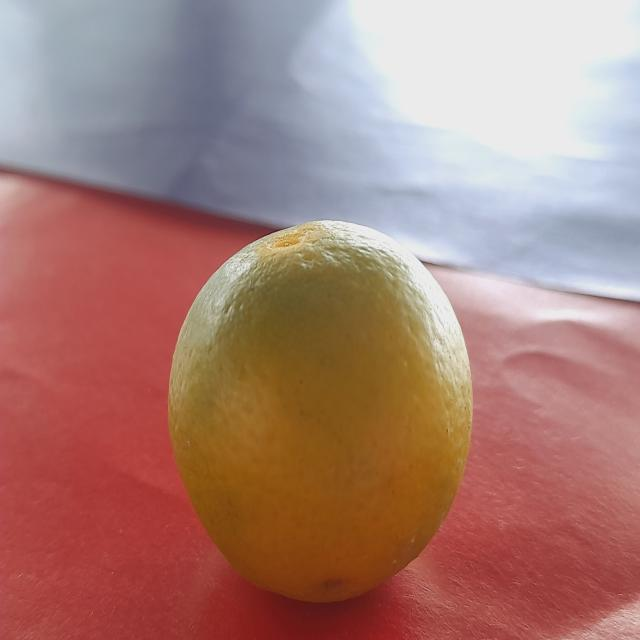greening: (165, 203, 493, 597)
